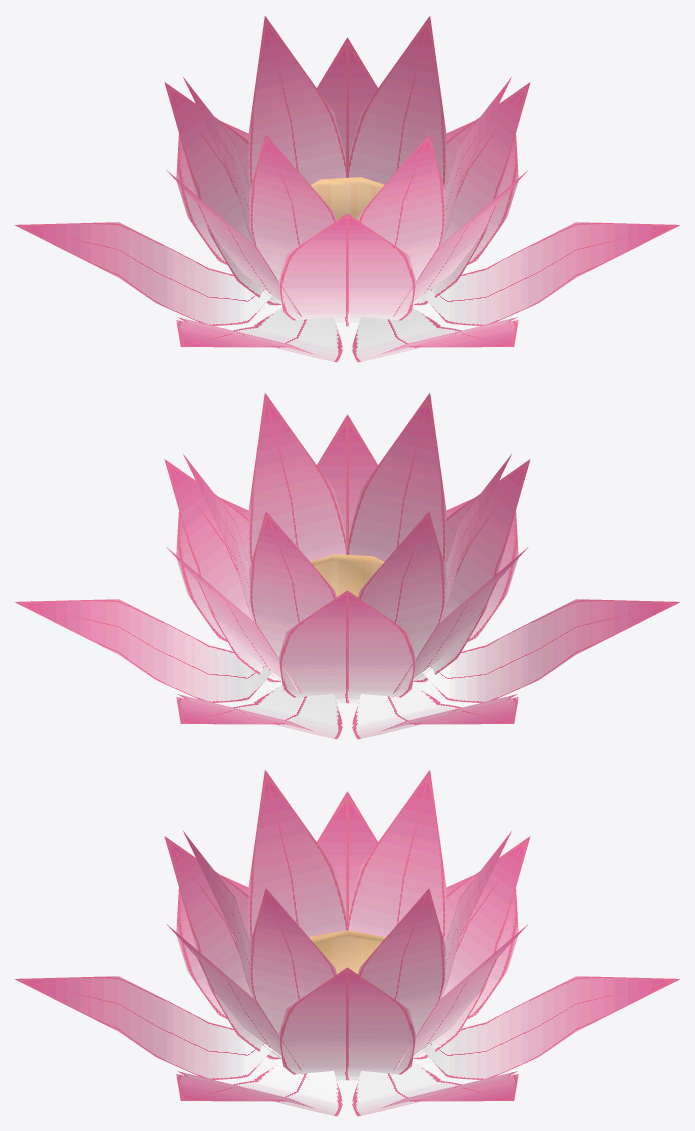
The model's file is ps2_save-icons_sykrenshouden.glb.
3 renders of one model, top to bottom at view 1: azimuth 30°, elevation 25°; view 2: azimuth 150°, elevation 25°; view 3: azimuth 270°, elevation 25°, orthographic.
Parts seen in each view (by area): view 1: SAVE.ICO; view 2: SAVE.ICO; view 3: SAVE.ICO.
Boxes of the visible parts, box(x1,y1,x2,y2) form: SAVE.ICO: box(14, 16, 680, 362); SAVE.ICO: box(14, 393, 680, 739); SAVE.ICO: box(14, 770, 680, 1116).
Bounding box in the file's own units: 2.76 × 1.21 × 3.19.
Materials: 1 (1 with a texture image).
